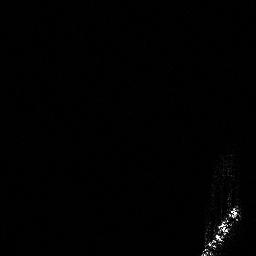ship: (197, 149, 243, 256)
